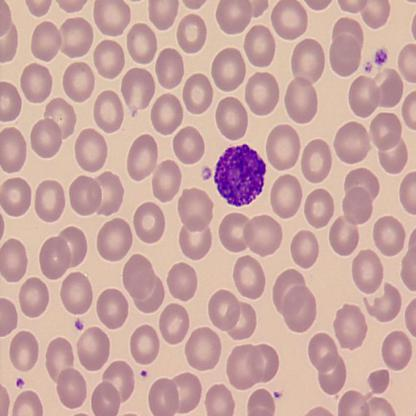Basophil: (211, 142, 268, 209)
